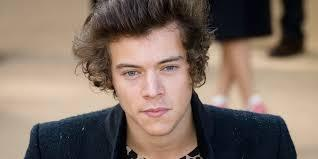No Mask: (97, 19, 212, 148)
